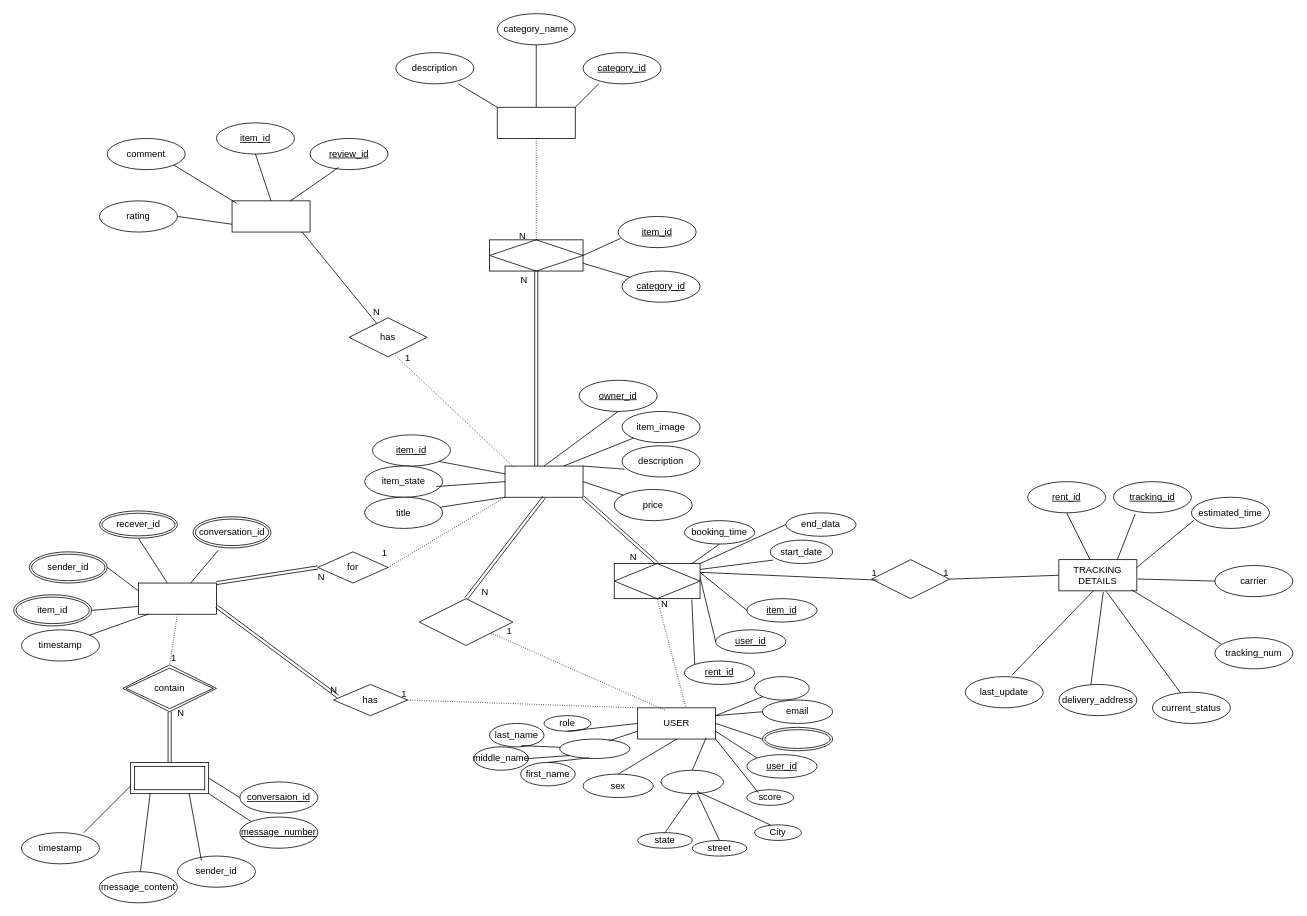
Image size: 1307x916. Some labels were removed from this diagram. Each missing label, with the centre of its shape:
"address" belongs at (x=691, y=781).
"CATEGORY" belongs at (x=535, y=122).
"CONVERSATION" belongs at (x=177, y=598).
"ITEM" belongs at (x=543, y=481).
"item_category" belongs at (x=536, y=255).
"message" belongs at (x=169, y=778).
"name" belongs at (x=594, y=748).
"owen" belongs at (x=465, y=621).
"password" belongs at (x=781, y=688).
"phone_num" belongs at (x=797, y=739).
"rent" belongs at (x=656, y=581).
"REVIEW" belongs at (x=270, y=216).
"shipping" belongs at (x=910, y=579).
